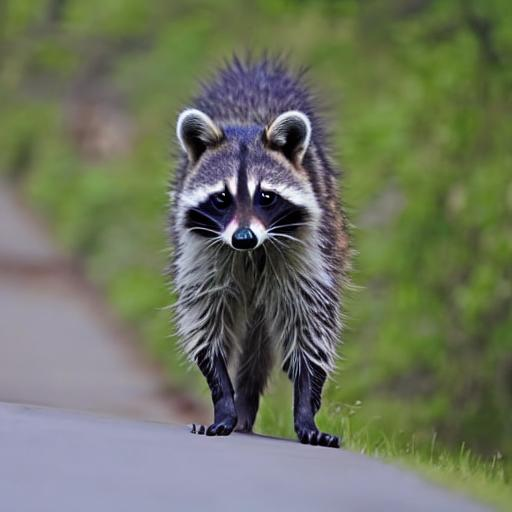raccoon: (161, 48, 356, 383)
